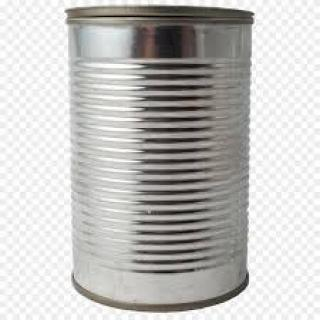Anorganik: (63, 2, 259, 314)
